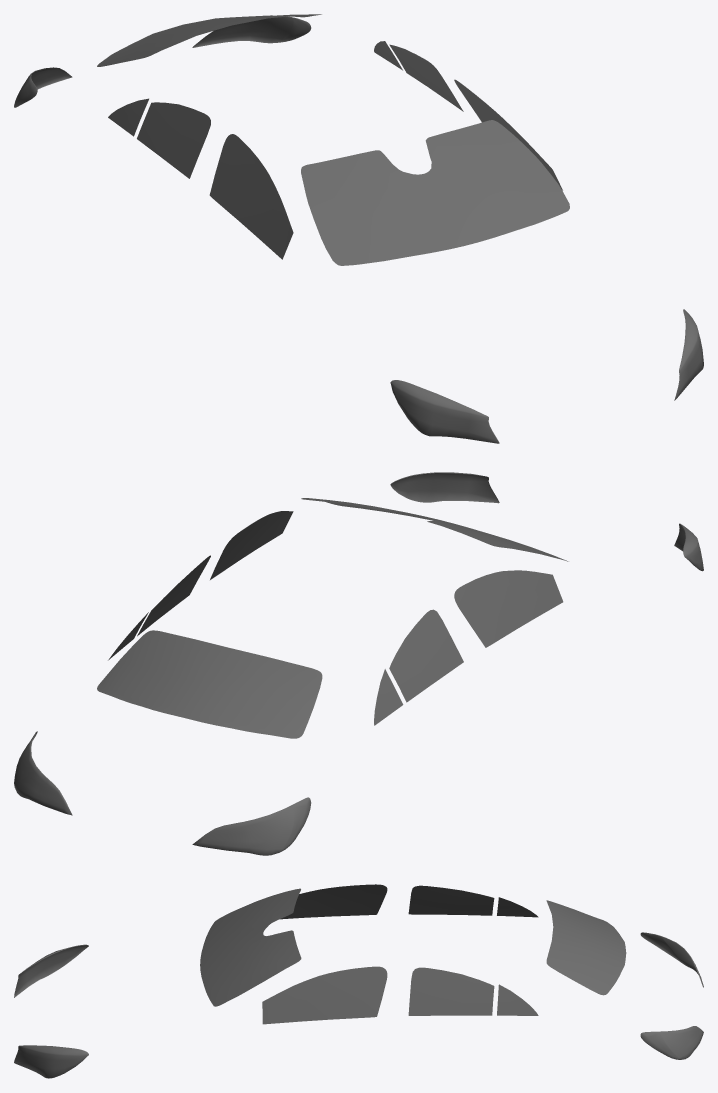
File: Windows_LOD0.obj
3 renders of one model, top to bottom at view 1: azimuth 30°, elevation 25°; view 2: azimuth 150°, elevation 25°; view 3: azimuth 270°, elevation 25°, orthographic. The views are drawn at different scales.
Visible parts, largest first — view 1: Windows_LOD0_1, Windows_LOD0_0; view 2: Windows_LOD0_1, Windows_LOD0_0; view 3: Windows_LOD0_1, Windows_LOD0_0.
Boxes of the visible parts, x1=… form: Windows_LOD0_1: x1=97, y1=14, x2=569, y2=265; Windows_LOD0_0: x1=14, y1=16, x2=703, y2=443; Windows_LOD0_1: x1=97, y1=498, x2=568, y2=738; Windows_LOD0_0: x1=14, y1=472, x2=703, y2=855; Windows_LOD0_1: x1=200, y1=884, x2=626, y2=1024; Windows_LOD0_0: x1=14, y1=932, x2=703, y2=1078.
Size of the model in its own units: 1.65 by 0.7628 by 4.38.
1 material, 1 textured.
